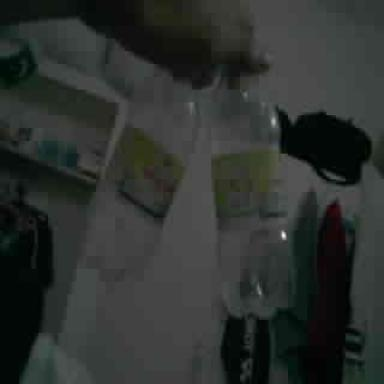bottle: (86, 69, 197, 277), (204, 85, 293, 317)
